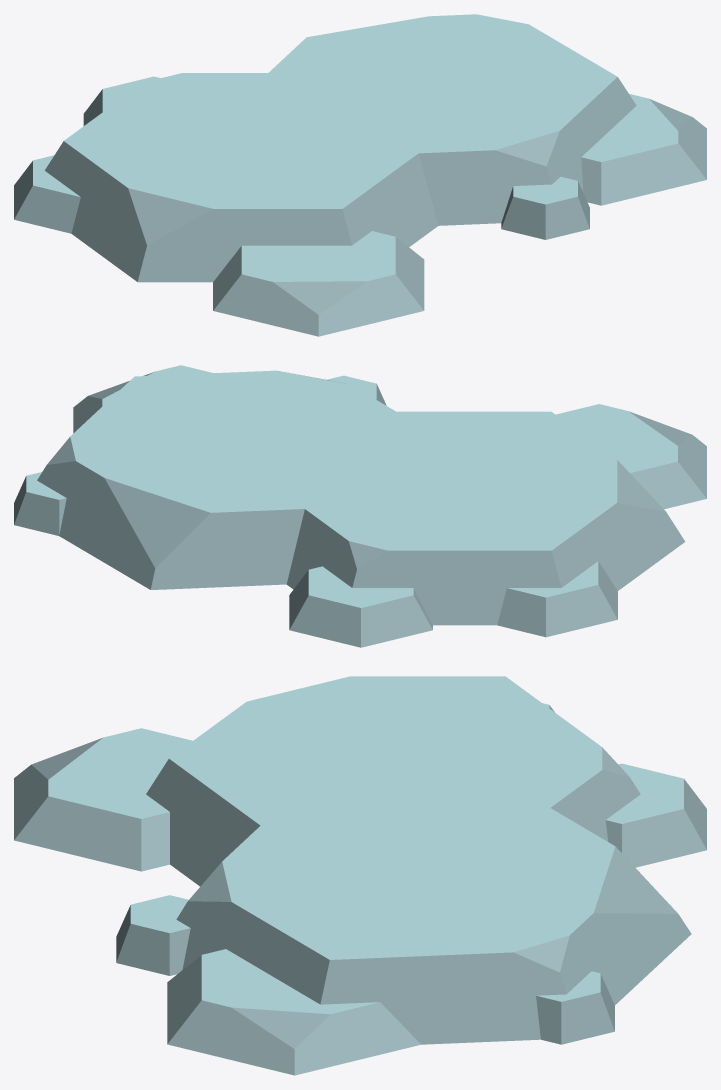
File: rock.glb
The picture shows the model from 3 angles, top to bottom: view 1: azimuth 30°, elevation 25°; view 2: azimuth 150°, elevation 25°; view 3: azimuth 270°, elevation 25°; orthographic projection. The views are drawn at different scales.
Visible parts, largest first — view 1: platform_stone; view 2: platform_stone; view 3: platform_stone.
Boxes of the visible parts, left/top/right/bottom form: platform_stone: left=14, top=14, right=706, bottom=336; platform_stone: left=14, top=365, right=706, bottom=647; platform_stone: left=14, top=676, right=706, bottom=1075.
Bounding box in the file's own units: 0.8932 × 0.0825 × 0.7239.
